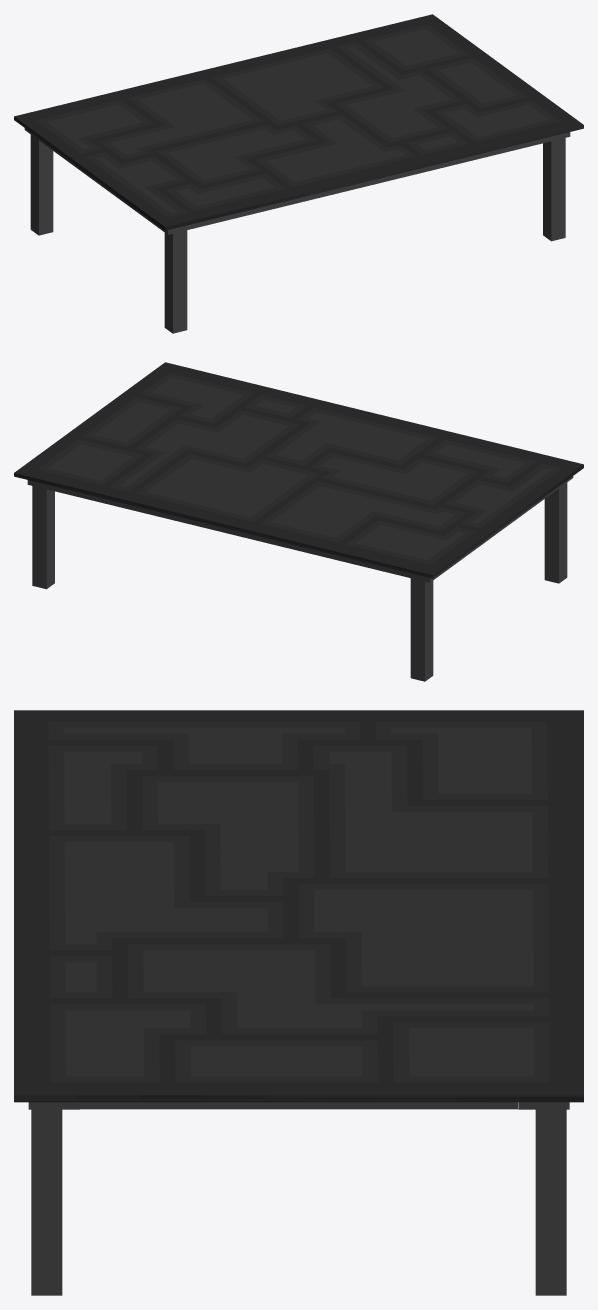
Rendered from Table.fbx.
3 views of the same model, one above another, from view 1: azimuth 30°, elevation 25°; view 2: azimuth 150°, elevation 25°; view 3: azimuth 270°, elevation 25° (orthographic). The views are drawn at different scales.
Visible parts, largest first — view 1: Cube.008, Cube, Cube.001, Cube.005, Cube.002; view 2: Cube.008, Cube.002, Cube.003, Cube.004, Cube; view 3: Cube.008, Cube.003, Cube.001, Cube.007.
Boxes of the visible parts, x1,y1,x2,y2 form: Cube.008: [14, 14, 583, 230]; Cube: [164, 230, 187, 333]; Cube.001: [543, 138, 565, 241]; Cube.005: [154, 132, 570, 234]; Cube.002: [30, 134, 53, 235]; Cube.008: [14, 362, 583, 578]; Cube.002: [410, 578, 433, 681]; Cube.003: [32, 486, 54, 589]; Cube.004: [27, 480, 443, 582]; Cube: [544, 482, 567, 583]; Cube.008: [14, 710, 583, 1102]; Cube.003: [535, 1109, 566, 1295]; Cube.001: [31, 1109, 62, 1295]; Cube.007: [80, 1102, 517, 1109].
Size of the model in its own units: 1414 by 364 by 885.
